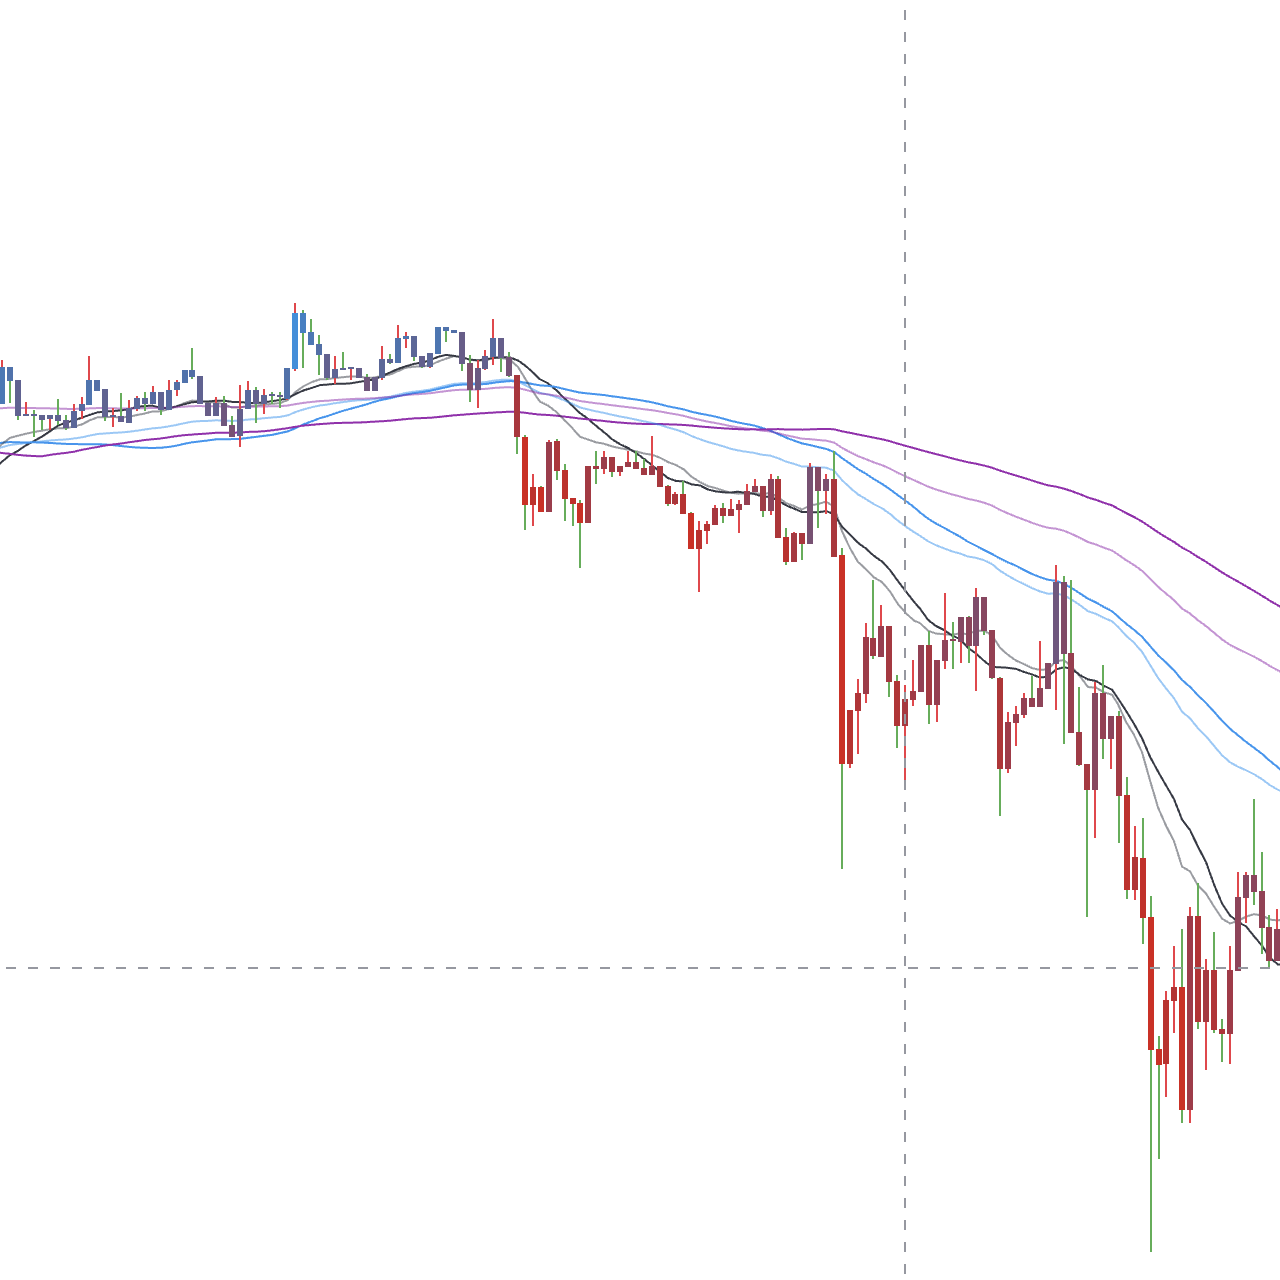ma_cluster: (464, 363, 635, 475)
